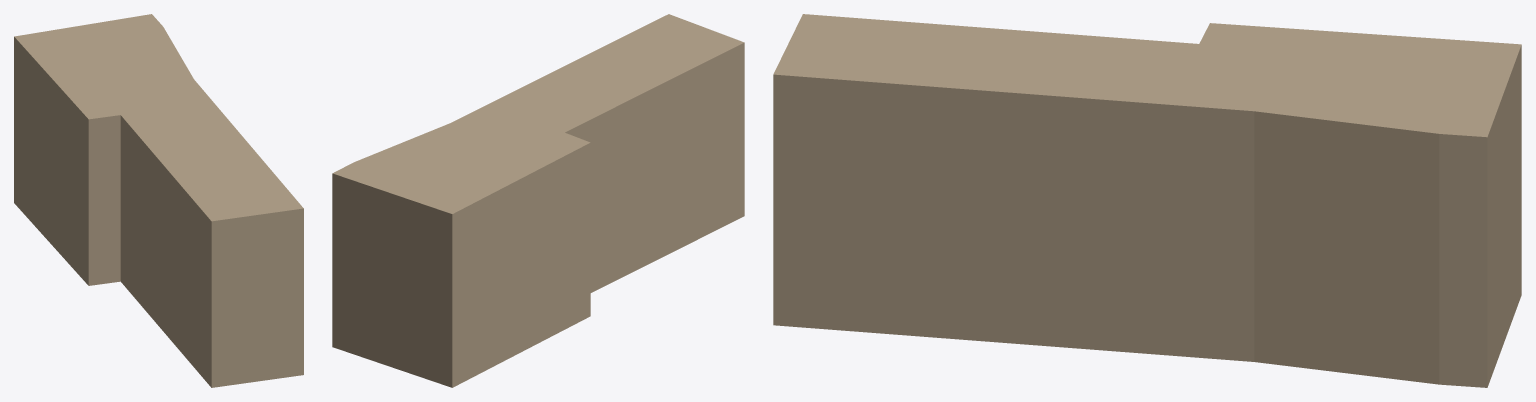
Rendered from bld_98768013.dae.
3 views of the same model, side by side, from view 1: azimuth 30°, elevation 25°; view 2: azimuth 150°, elevation 25°; view 3: azimuth 270°, elevation 25° (orthographic). The views are drawn at different scales.
Parts seen in each view (by area): view 1: MPP Solicitors; view 2: MPP Solicitors; view 3: MPP Solicitors.
Boxes of the visible parts, x1,y1,x2,y2 form: MPP Solicitors: (14, 14, 303, 387); MPP Solicitors: (332, 14, 744, 387); MPP Solicitors: (773, 14, 1521, 387).
Size of the model in its own units: 8.43 by 21.64 by 8.
